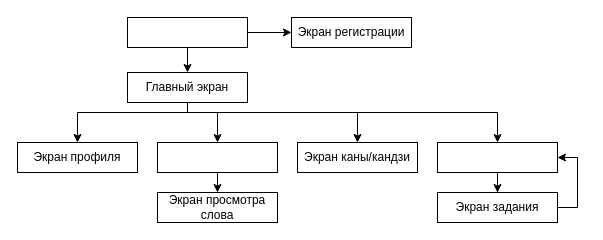
This 603x240 diagram has some shape labels left out. Here are the shapes that lost their labels. From the top down, the centre of each, then its label:
At pixel 187 32: "Экран авторизации".
At pixel 217 157: "Экран словаря".
At pixel 497 157: "Экран навыков".
